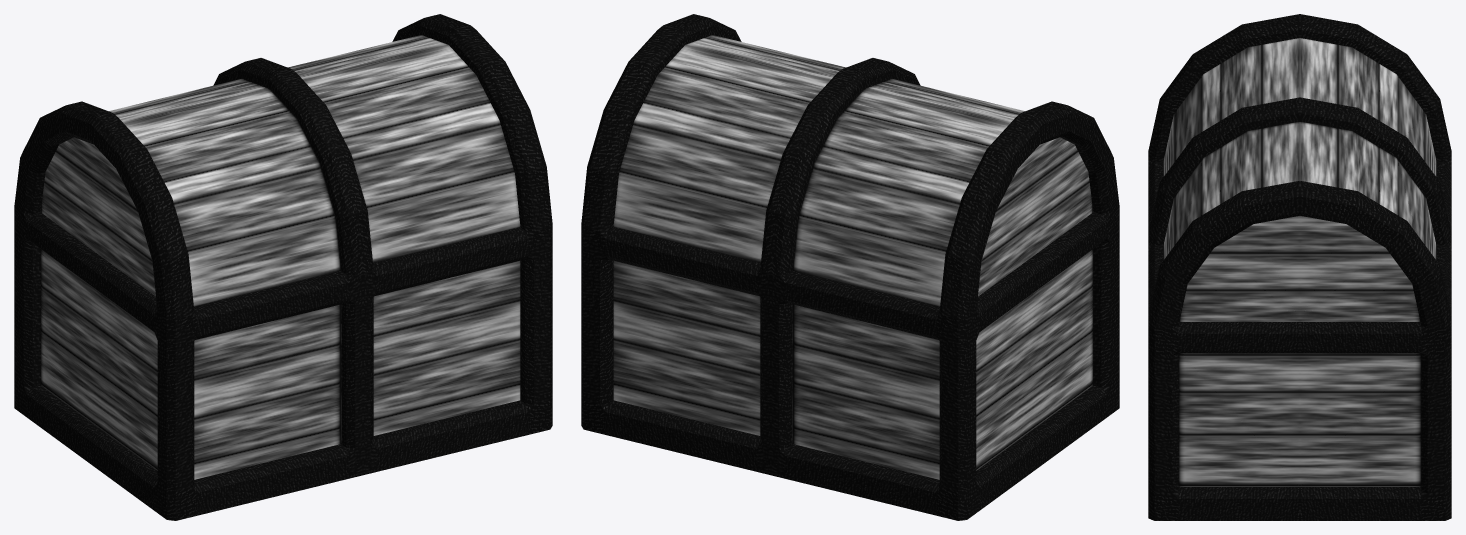
Rendered from chest.obj.
3 renders of one model, left to right at view 1: azimuth 30°, elevation 25°; view 2: azimuth 150°, elevation 25°; view 3: azimuth 270°, elevation 25°, orthographic. The views are drawn at different scales.
Visible parts, largest first — view 1: Cube_Cube.001; view 2: Cube_Cube.001; view 3: Cube_Cube.001.
Boxes of the visible parts, <box> form: Cube_Cube.001: <box>14,14,552,520</box>; Cube_Cube.001: <box>581,14,1119,520</box>; Cube_Cube.001: <box>1148,14,1451,520</box>.
Size of the model in its own units: 1.4 by 1.2 by 1.
